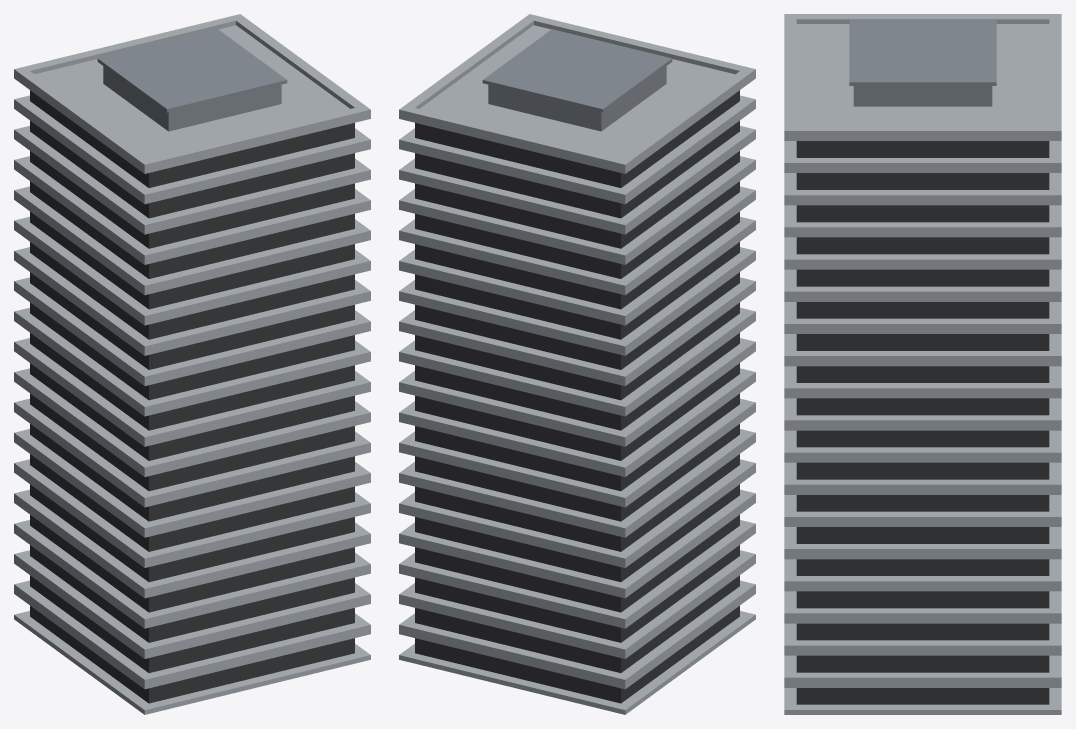
The model's file is talo7.fbx.
The picture shows the model from 3 angles, left to right: view 1: azimuth 30°, elevation 25°; view 2: azimuth 150°, elevation 25°; view 3: azimuth 270°, elevation 25°; orthographic projection. The views are drawn at different scales.
Parts seen in each view (by area): view 1: talo7; view 2: talo7; view 3: talo7.
Boxes of the visible parts, box(x1,y1,x2,y2) form: talo7: box(14, 14, 370, 714); talo7: box(399, 14, 755, 714); talo7: box(784, 14, 1061, 714).
Size of the model in its own units: 203 by 489 by 203.
